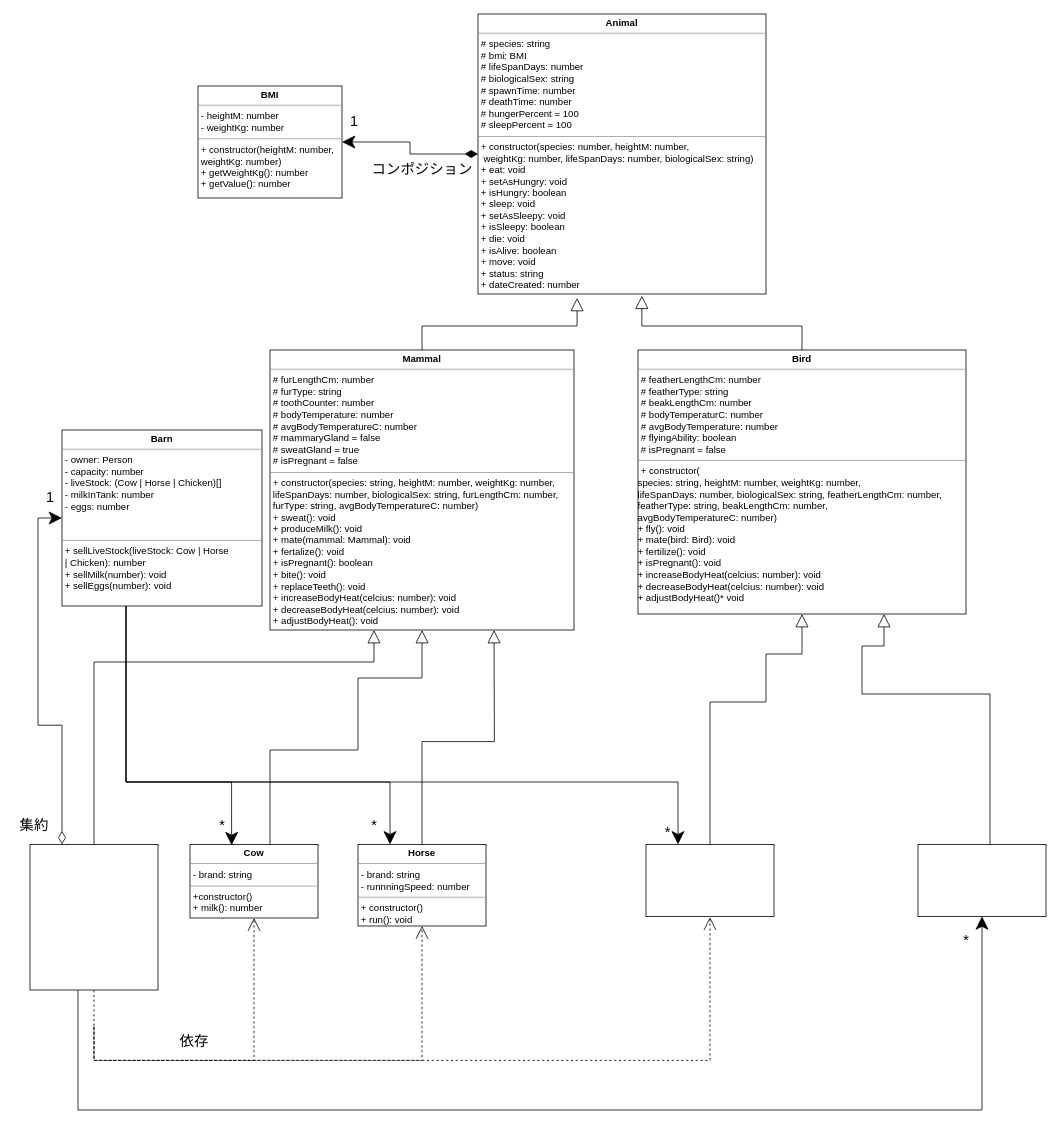
Image size: 1060x1137. Some labels were removed from this diagram. Here are the shapes that lost their labels. From the top down, the box of each, then its label:
(645, 844, 774, 916): Chicken - brand: string + constructor() + layEggs(): number
(917, 844, 1046, 916): Parrot - owner: Person + constructor() + speak(): void
(29, 844, 158, 990): Person - firstName: string - lastName: string - money: number + constructor()
